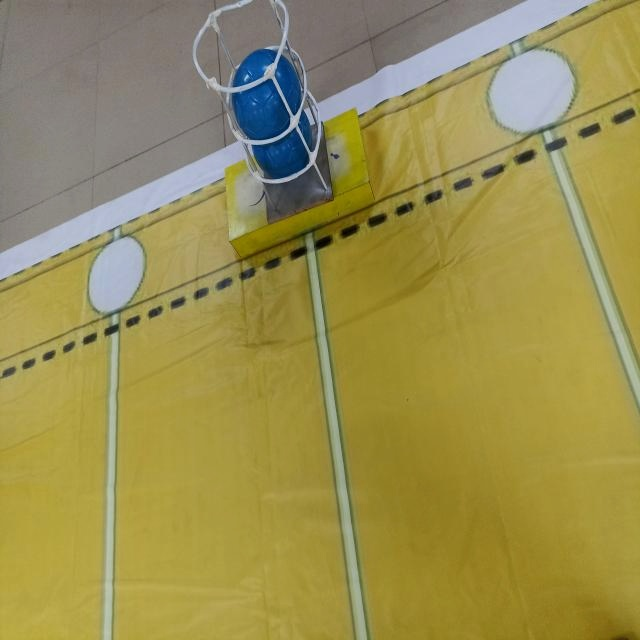blue_ball: (217, 33, 312, 156), (244, 101, 324, 192)
silo: (173, 0, 366, 245)
